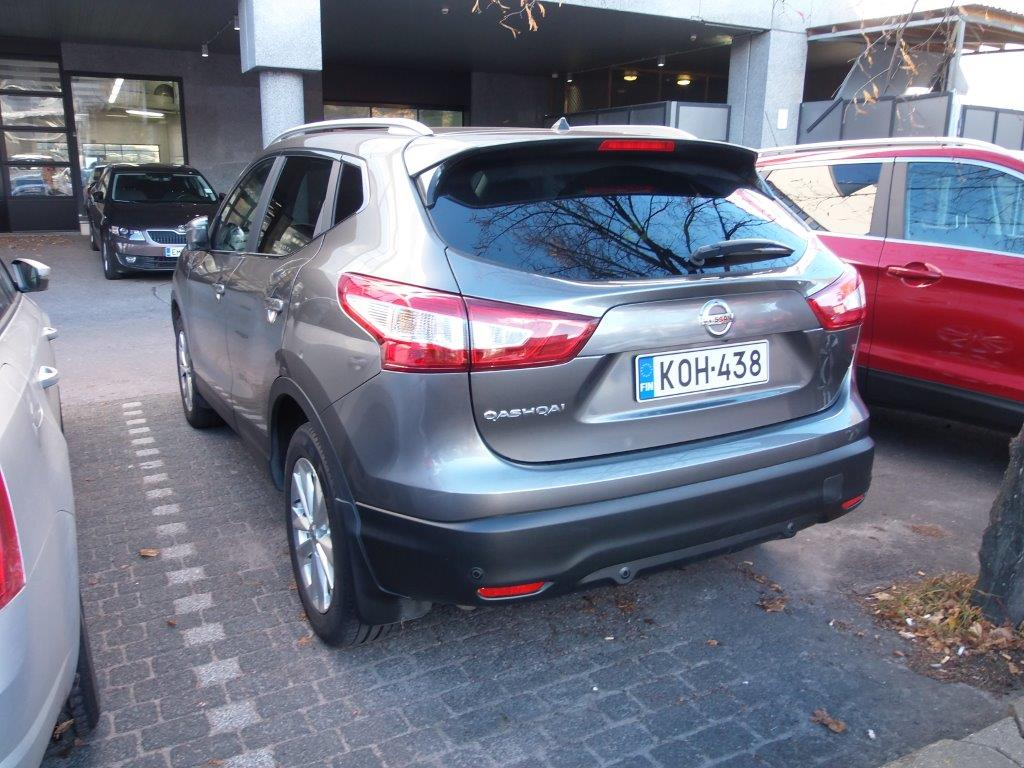license: (631, 340, 772, 406)
